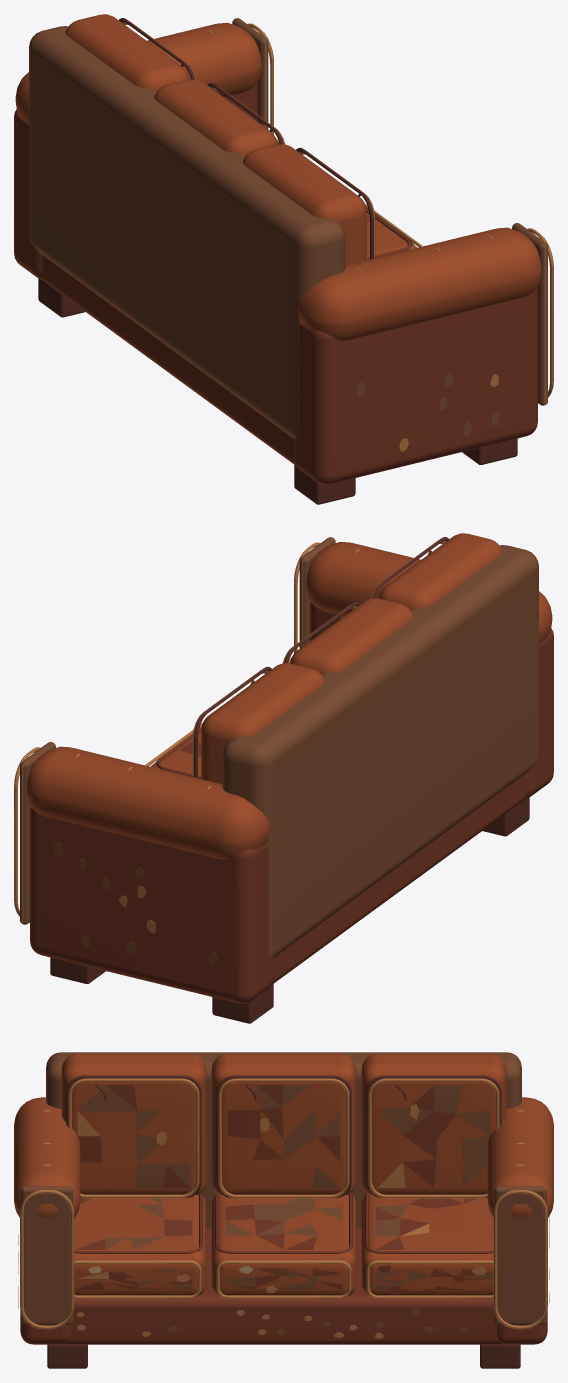
3 views of the same model, one above another, from view 1: azimuth 30°, elevation 25°; view 2: azimuth 150°, elevation 25°; view 3: azimuth 270°, elevation 25° (orthographic). The views are drawn at different scales.
Visible parts, largest first — view 1: detail_pal_leatherShadow, detail_pal_hairAuburn, body, detail_pal_hairShadow, detail_pal_woodWarm; view 2: detail_pal_leatherShadow, detail_pal_hairAuburn, body, detail_pal_hairShadow, detail_pal_woodWarm; view 3: body, detail_pal_hairAuburn, detail_pal_leatherShadow, detail_pal_woodWarm, detail_pal_hairShadow.
Part boxes in pixels (bbox=[...]): detail_pal_leatherShadow: bbox=[29, 18, 547, 438]; detail_pal_hairAuburn: bbox=[14, 82, 537, 484]; body: bbox=[15, 14, 541, 340]; detail_pal_hairShadow: bbox=[38, 18, 517, 504]; detail_pal_woodWarm: bbox=[122, 21, 553, 451]; detail_pal_leatherShadow: bbox=[20, 537, 538, 965]; detail_pal_hairAuburn: bbox=[30, 601, 553, 1003]; body: bbox=[26, 533, 552, 859]; detail_pal_hairShadow: bbox=[50, 537, 529, 1023]; detail_pal_woodWarm: bbox=[14, 541, 445, 933]; body: bbox=[14, 1053, 553, 1295]; detail_pal_hairAuburn: bbox=[20, 1085, 547, 1344]; detail_pal_leatherShadow: bbox=[18, 1052, 549, 1335]; detail_pal_woodWarm: bbox=[18, 1078, 549, 1338]; detail_pal_hairShadow: bbox=[47, 1075, 520, 1368].
Size of the model in its own units: 1.08 by 1.25 by 2.52.
